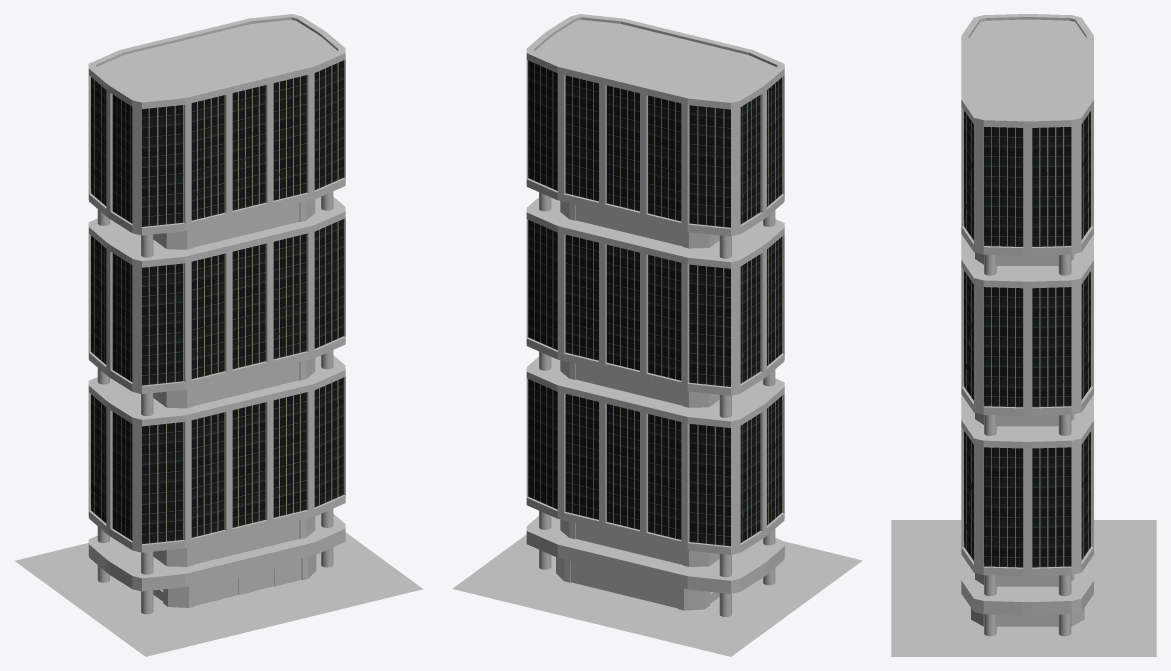
The picture shows the model from 3 angles, left to right: view 1: azimuth 30°, elevation 25°; view 2: azimuth 150°, elevation 25°; view 3: azimuth 270°, elevation 25°; orthographic projection.
Parts seen in each view (by area): view 1: BC-002; view 2: BC-002; view 3: BC-002.
Boxes of the visible parts, <box> form: BC-002: <box>15,14,422,656</box>; BC-002: <box>452,14,862,656</box>; BC-002: <box>891,14,1156,656</box>.
Size of what is drawn, in the model's own units: 44 by 78 by 36.
